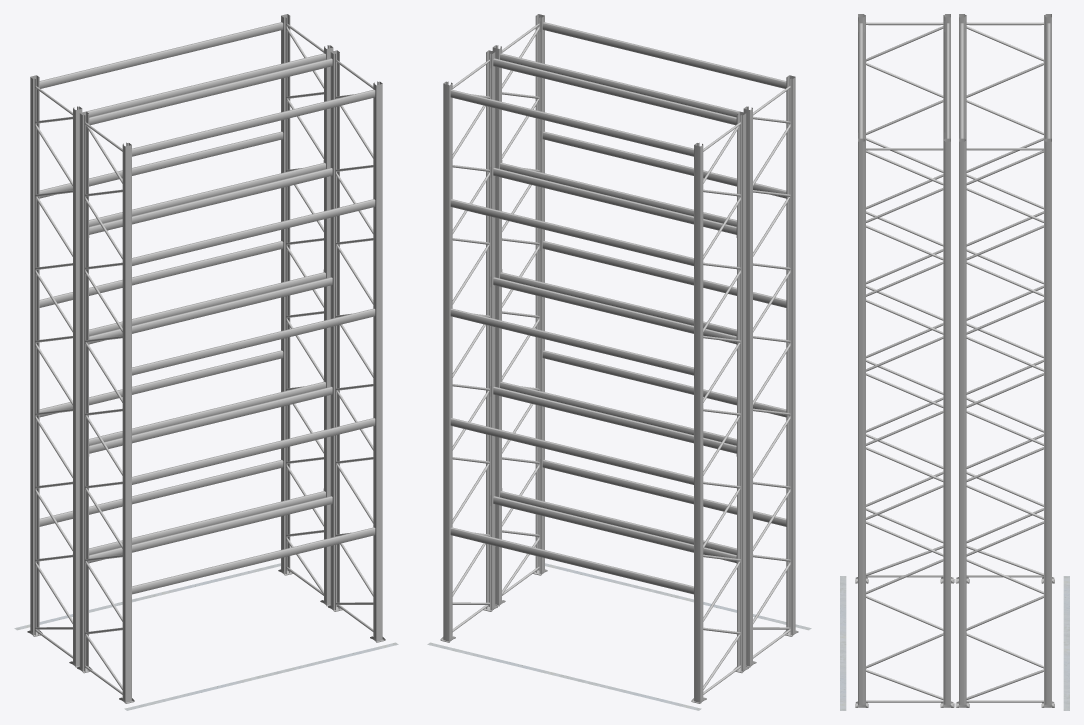
The model's file is Warehouse_Shelves_Double.FBX.
3 renders of one model, left to right at view 1: azimuth 30°, elevation 25°; view 2: azimuth 150°, elevation 25°; view 3: azimuth 270°, elevation 25°, orthographic.
Parts seen in each view (by area): view 1: Warehouse_Shelves_2; view 2: Warehouse_Shelves_2; view 3: Warehouse_Shelves_2.
Part boxes in pixels (box(x1,y1,x2,y2)): Warehouse_Shelves_2: box(14, 14, 398, 710); Warehouse_Shelves_2: box(427, 14, 811, 710); Warehouse_Shelves_2: box(840, 14, 1069, 710).
Bounding box in the file's own units: 156 × 305 × 112.
